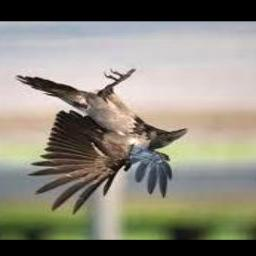Crow: (13, 69, 186, 215)
